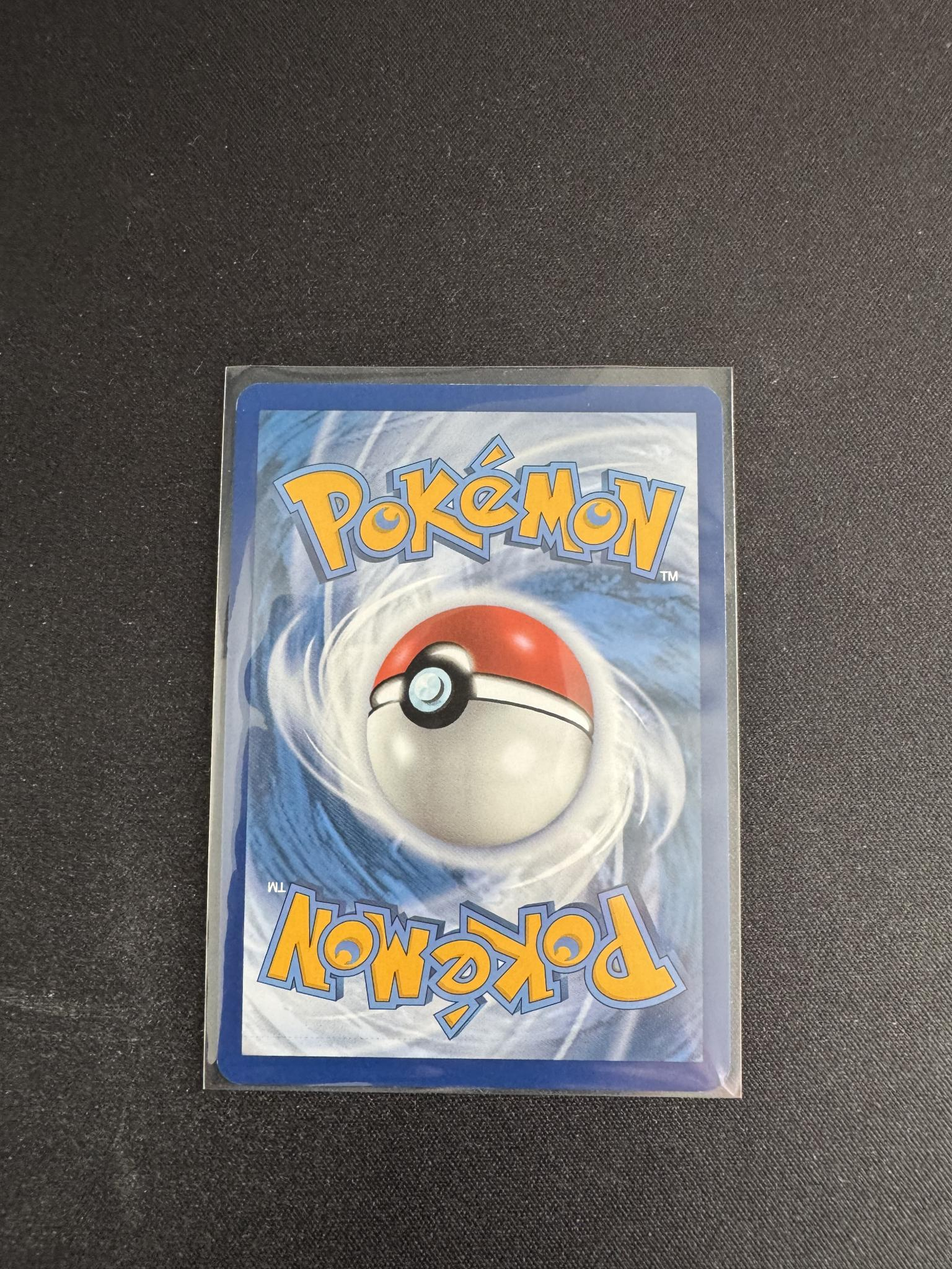card-2UtV: (216, 382, 731, 1092)
